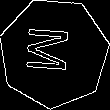M_E: (28, 28, 81, 78)
